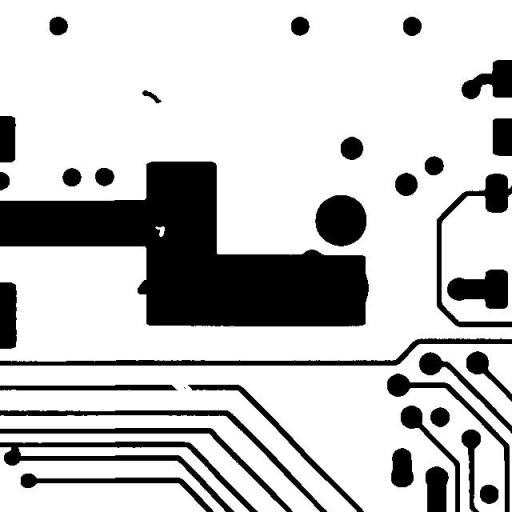copper: (134, 82, 169, 110)
open: (163, 368, 199, 400)
pin-hole: (147, 218, 172, 244)
short: (3, 437, 28, 464)
spur: (130, 272, 156, 302)
